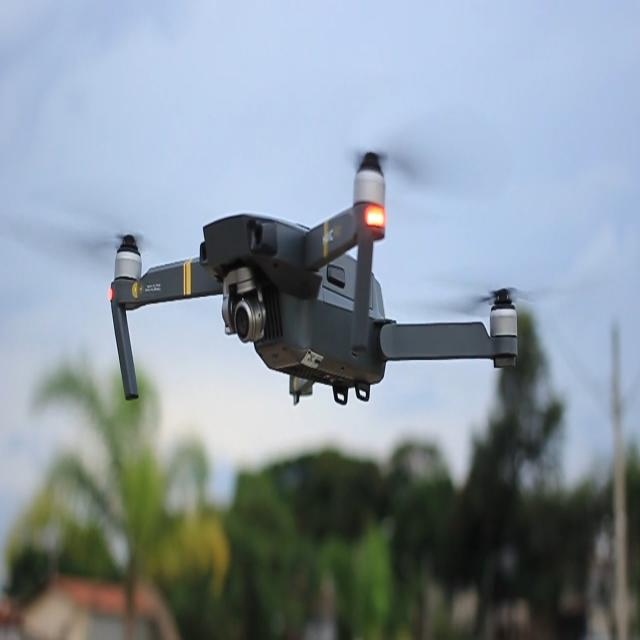Drone: (108, 152, 516, 406)
